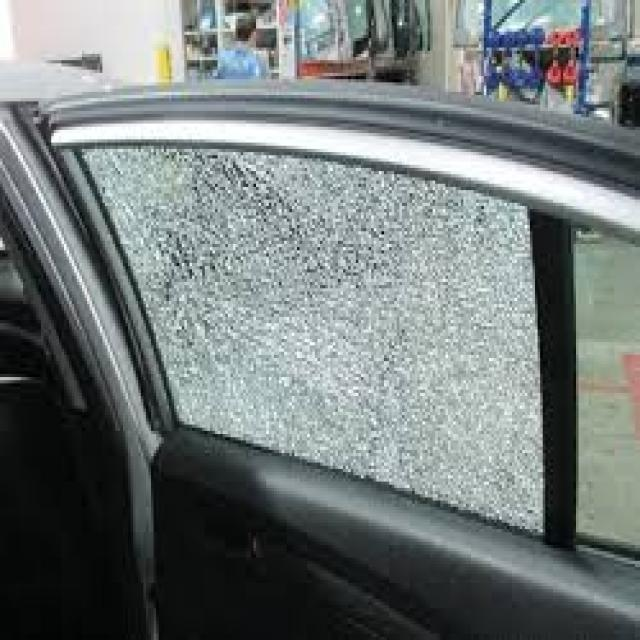damaged-window: (74, 142, 552, 533)
